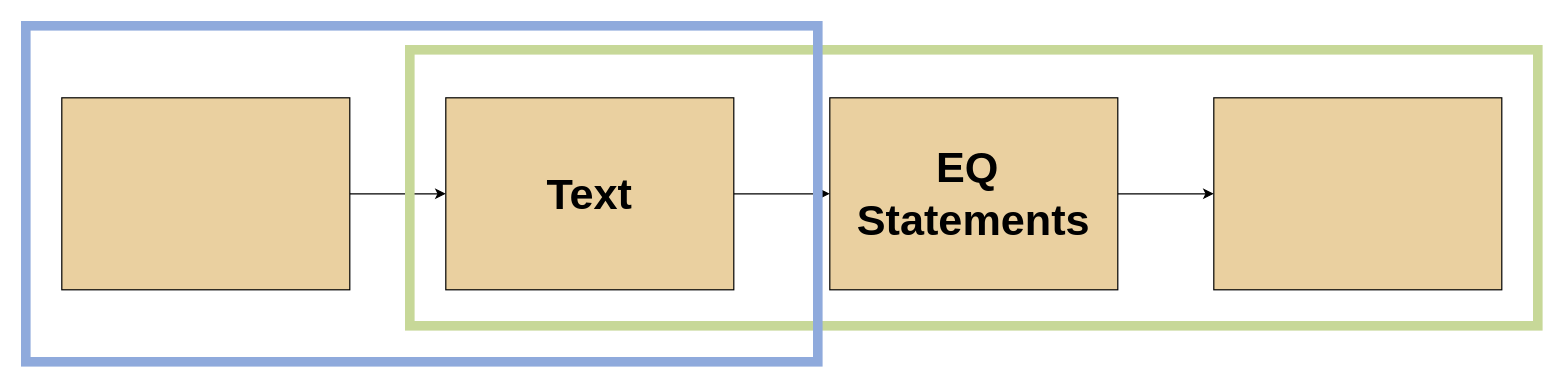
This 1562x386 diagram has some shape labels left out. The box of each missing label's shape, as (x1, y1, x2, y2) in pixels:
Semantic Similarity Analyses: (1213, 97, 1502, 290)
Speech: (61, 97, 350, 290)
